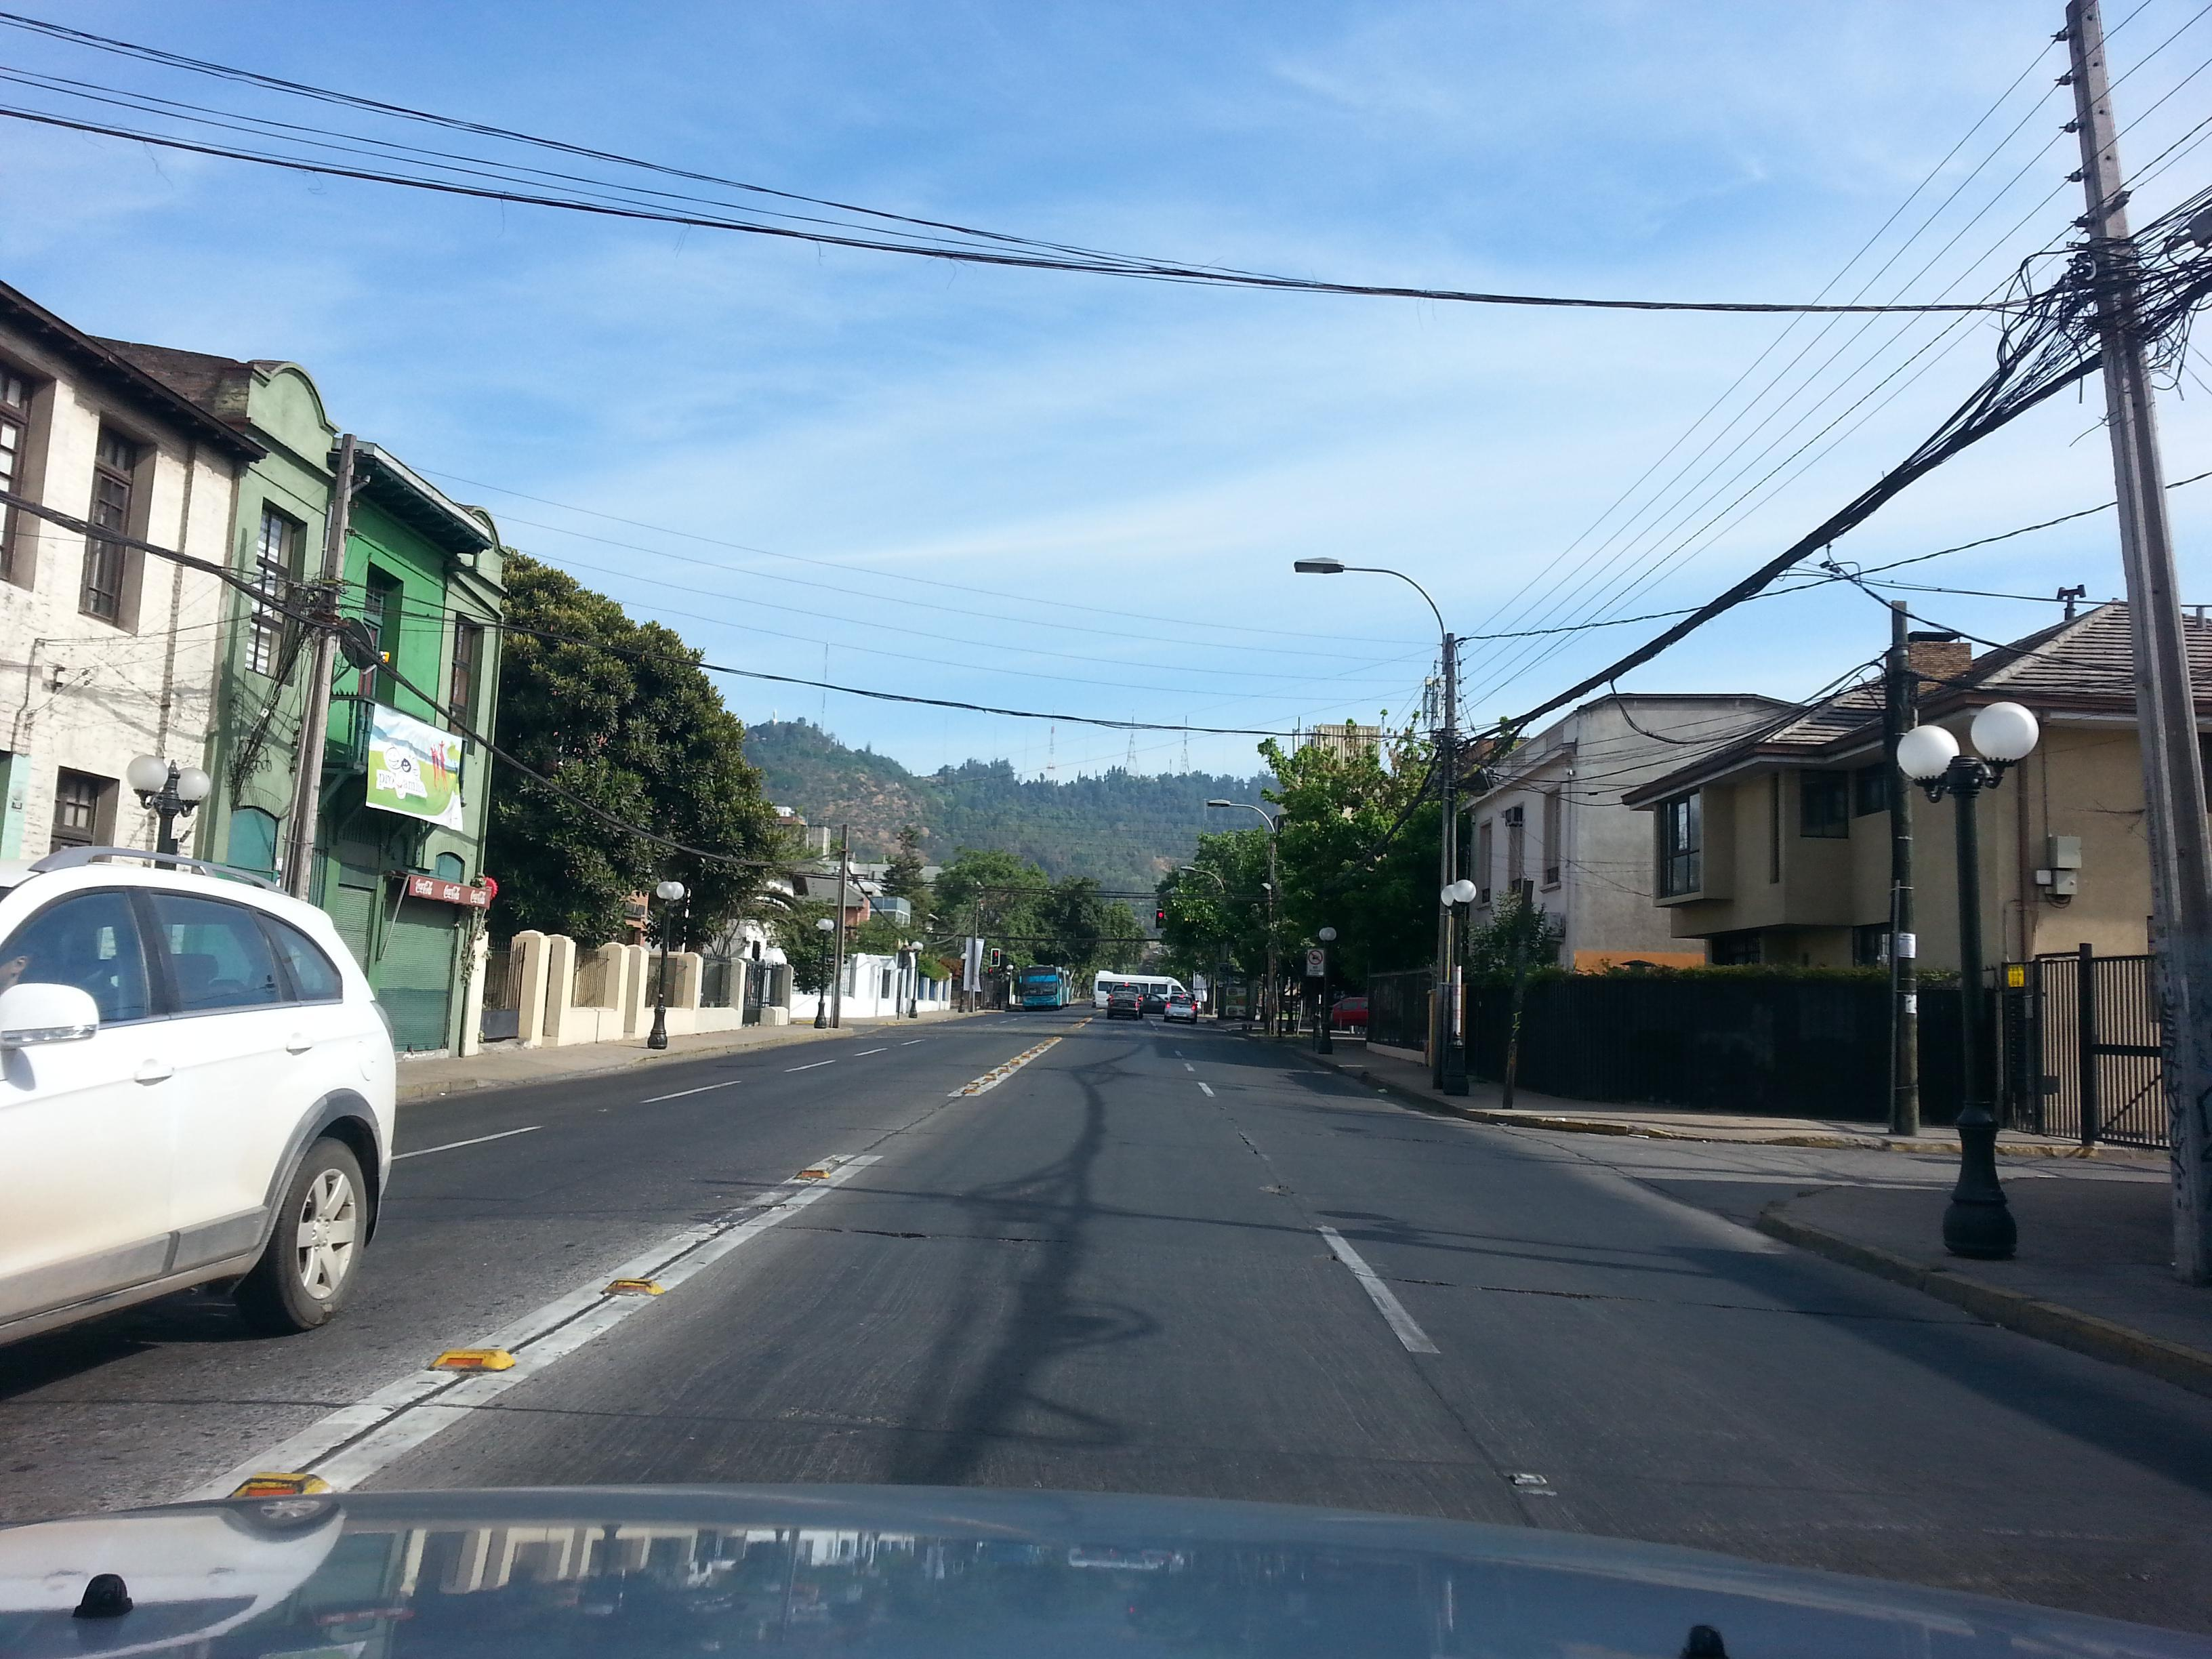vinyl banner: (352, 683, 486, 843)
